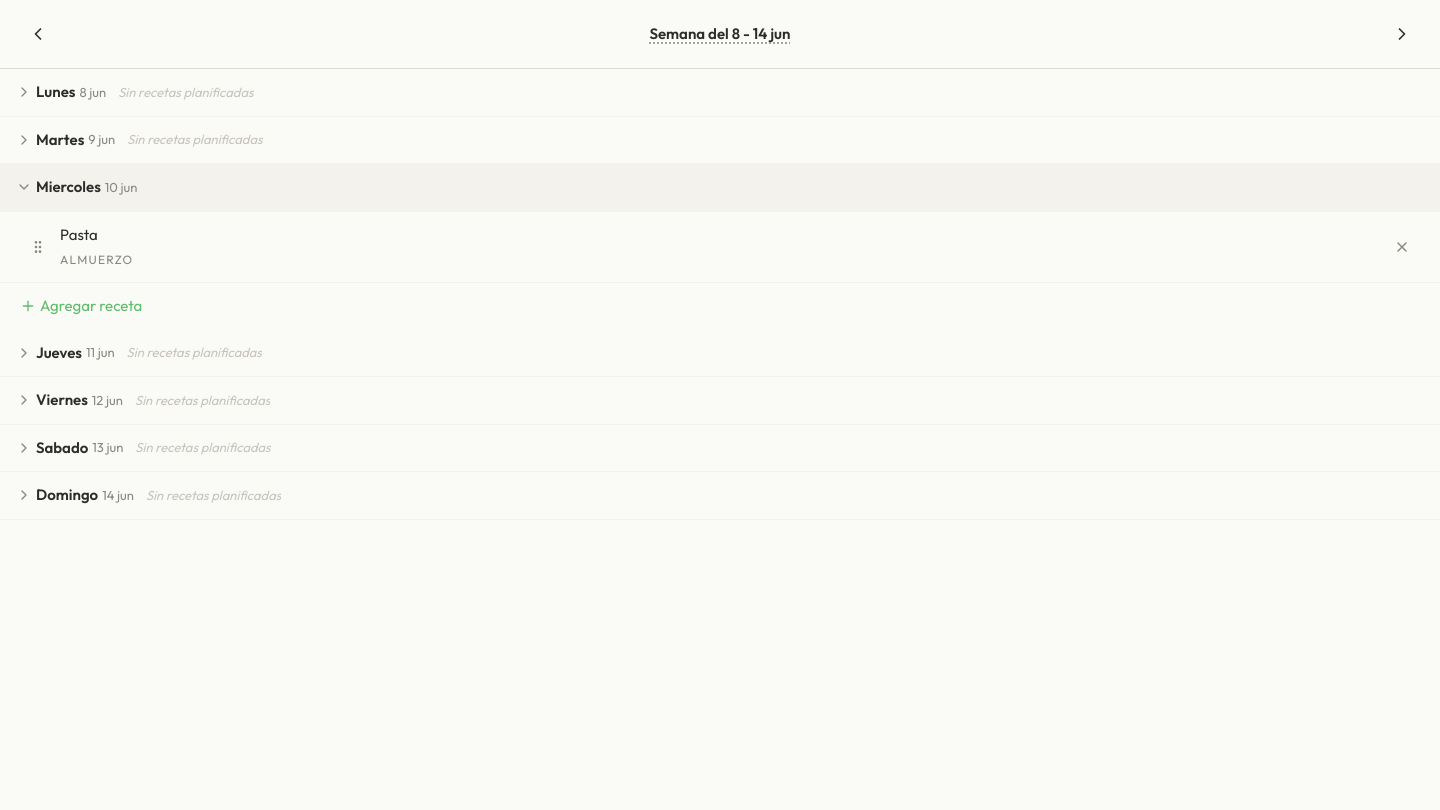
Test: PlannerPage › opens edit sheet when entry recipe name is clicked
The width and height of the screenshot is (1440, 810).
Note: Click on the recipe name (clickable area)
Click the text "Pasta": {"x": 79, "y": 234} [60,224,98,244]
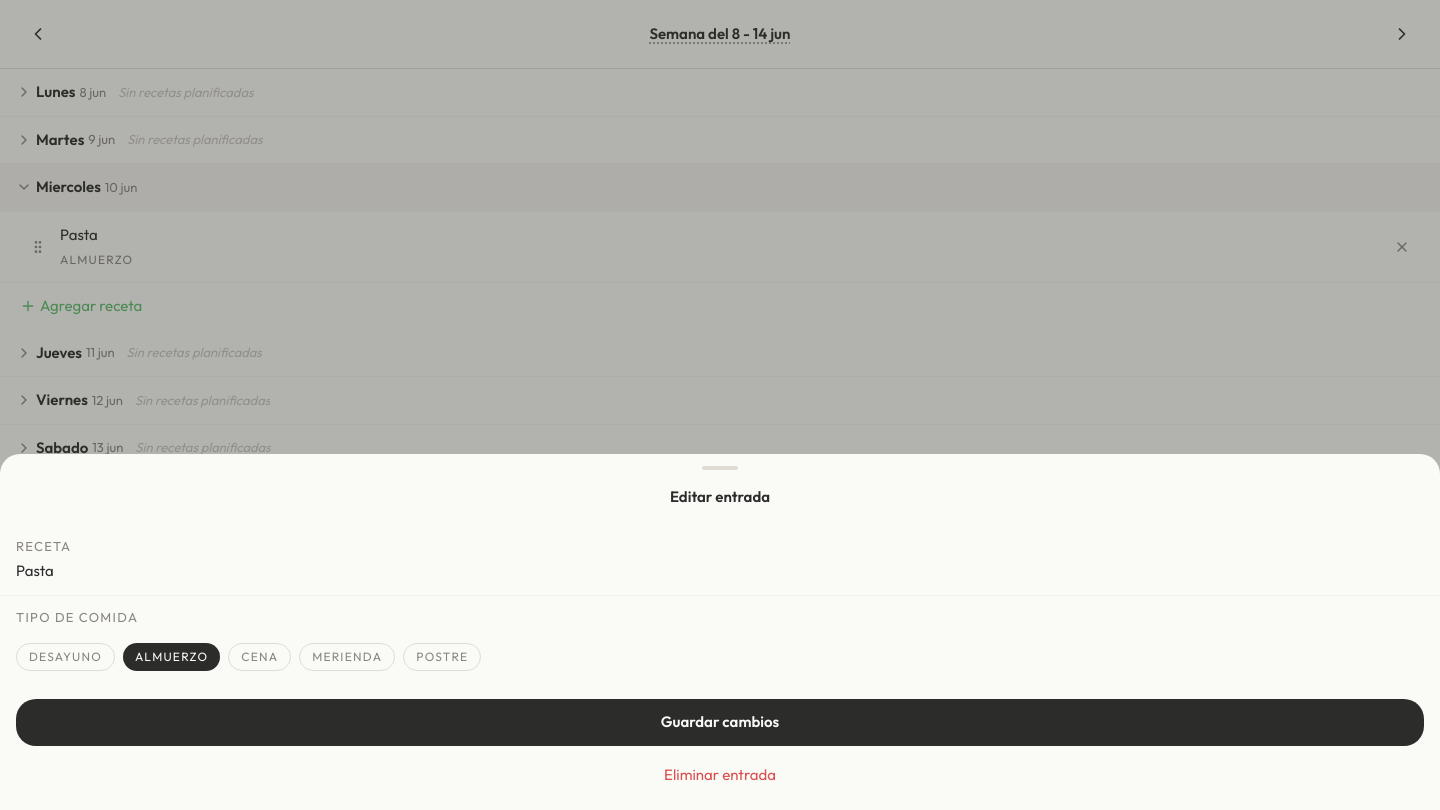
Expected: the text "Editar entrada" is shown, [670,487,770,506]
